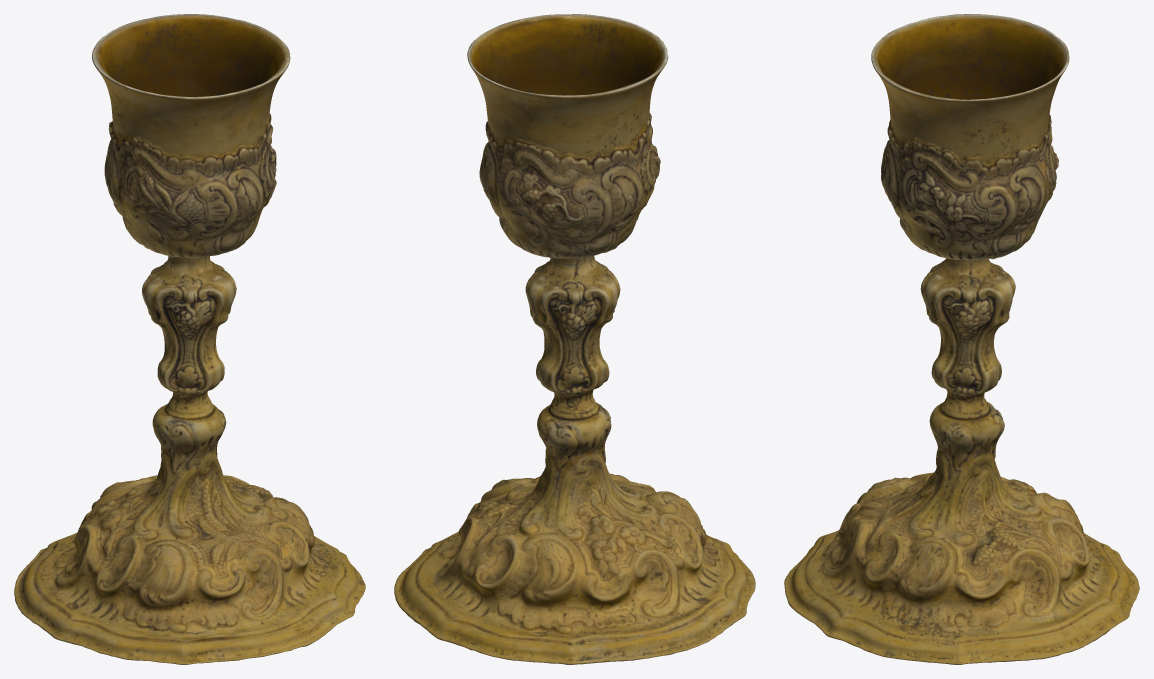
3 renders of one model, left to right at view 1: azimuth 30°, elevation 25°; view 2: azimuth 150°, elevation 25°; view 3: azimuth 270°, elevation 25°, orthographic.
Visible parts, largest first — view 1: Object_2, Object_3; view 2: Object_2, Object_3; view 3: Object_2, Object_3.
Part boxes in pixels (left/top/right/bottom): Object_2: left=14, top=14, right=365, bottom=664; Object_3: left=24, top=378, right=363, bottom=664; Object_2: left=394, top=14, right=755, bottom=664; Object_3: left=396, top=371, right=753, bottom=643; Object_2: left=784, top=14, right=1139, bottom=664; Object_3: left=788, top=382, right=1129, bottom=664.
Size of the model in its own units: 11.68 by 19.62 by 11.75.
Materials: 1 (1 with a texture image).
